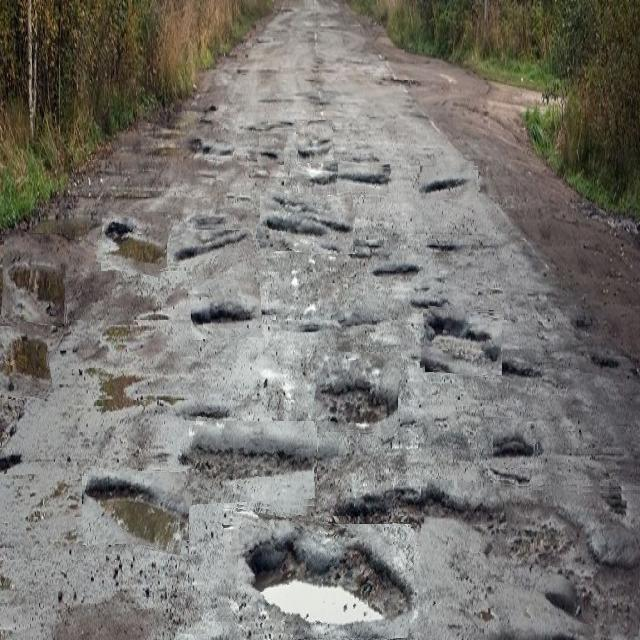Pothole: (418, 482, 640, 640), (218, 516, 414, 640), (186, 422, 317, 512), (79, 471, 191, 551), (313, 352, 401, 436), (258, 188, 355, 254), (2, 233, 68, 325), (421, 308, 502, 376), (188, 277, 262, 338), (99, 212, 171, 274), (0, 324, 50, 399), (183, 119, 237, 180), (171, 230, 253, 264), (494, 418, 540, 468), (419, 163, 479, 200), (337, 162, 391, 195), (296, 120, 333, 163), (580, 338, 621, 374), (258, 132, 286, 165)
